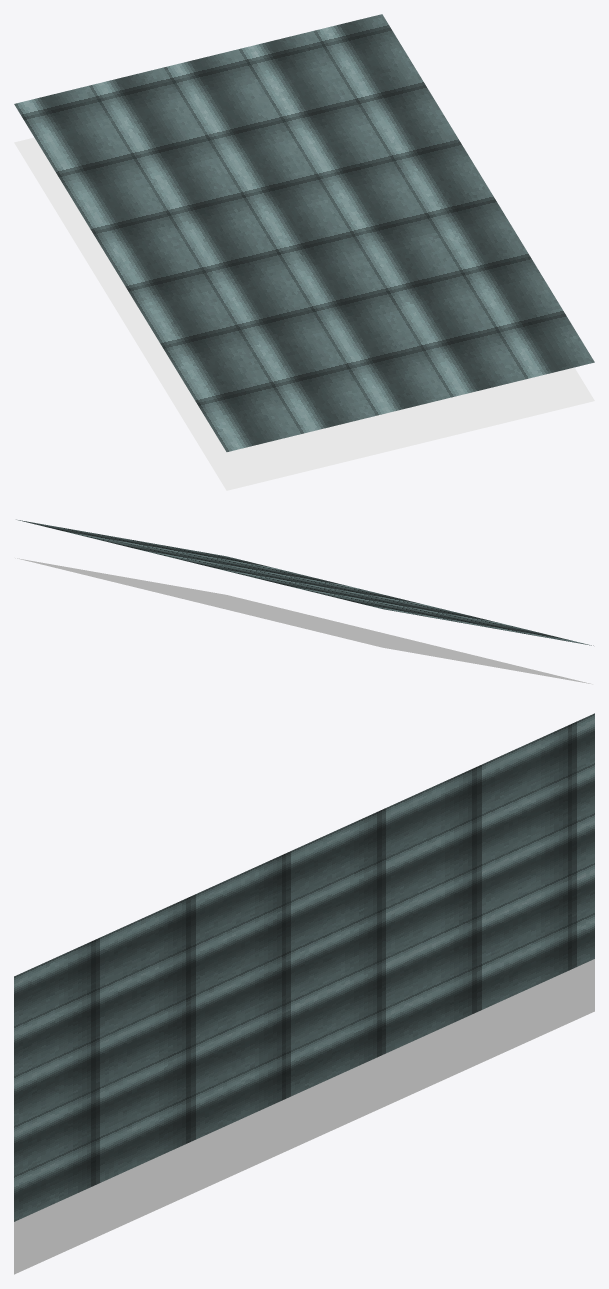
File: roof_mid_2x2.glb
3 renders of one model, top to bottom at view 1: azimuth 30°, elevation 25°; view 2: azimuth 150°, elevation 25°; view 3: azimuth 270°, elevation 25°, orthographic. The views are drawn at different scales.
Parts seen in each view (by area): view 1: roof_mid_2x2; view 2: roof_mid_2x2; view 3: roof_mid_2x2.
Boxes of the visible parts, left/top/right/bottom form: roof_mid_2x2: left=14, top=14, right=594, bottom=490; roof_mid_2x2: left=15, top=519, right=593, bottom=684; roof_mid_2x2: left=14, top=713, right=594, bottom=1274.
Bounding box in the file's own units: 2 × 1.2 × 2.
2 materials, 1 textured.
